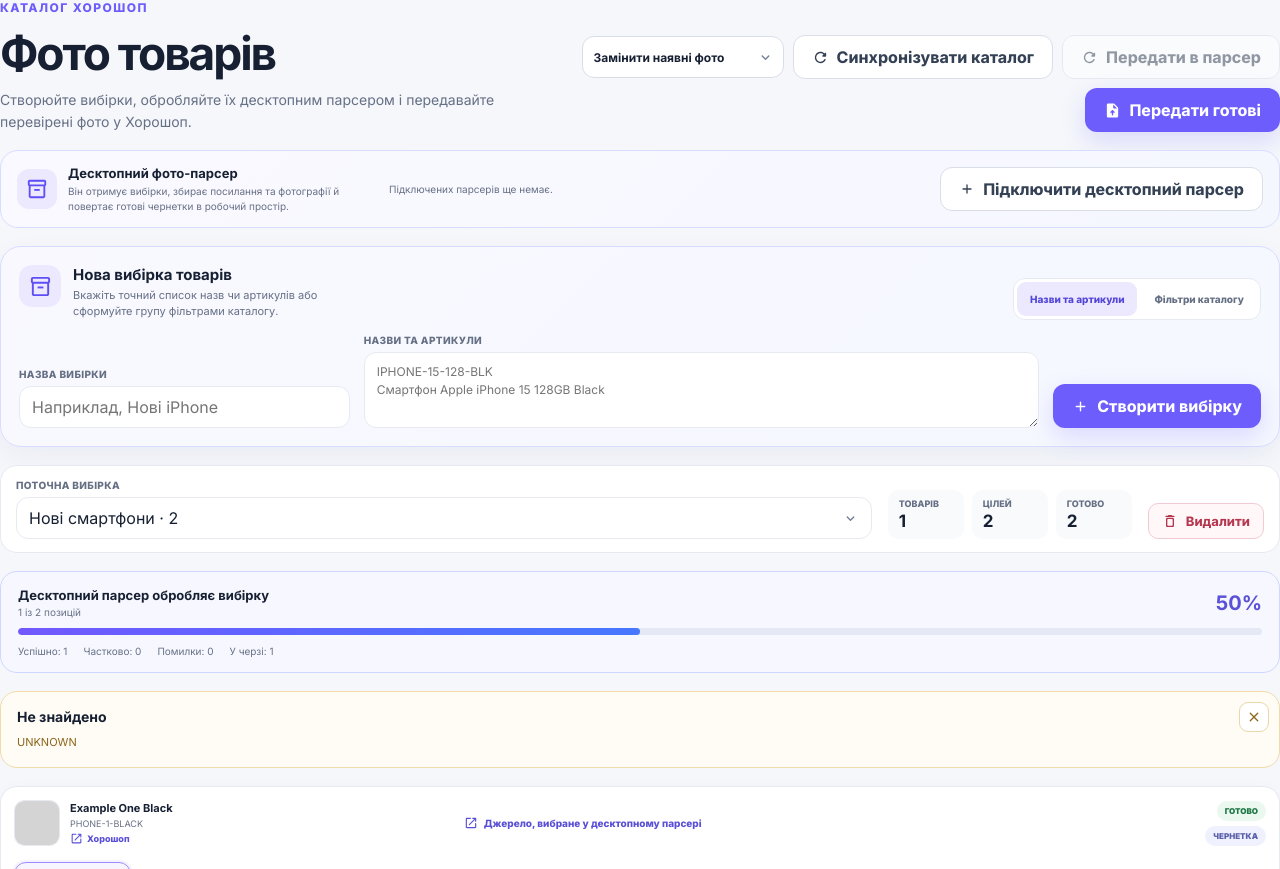
Test: HoroshopPhotoParserPage › allows publishing ready drafts even when a parser batch is stale at 50 percent
Expected: the text "1 із 2 позицій" is shown, [18,606,81,618]
Expected: the text "50%" is shown, [1216,591,1262,615]
Click the button "Передати готові": {"x": 1183, "y": 110} [1085,88,1279,132]
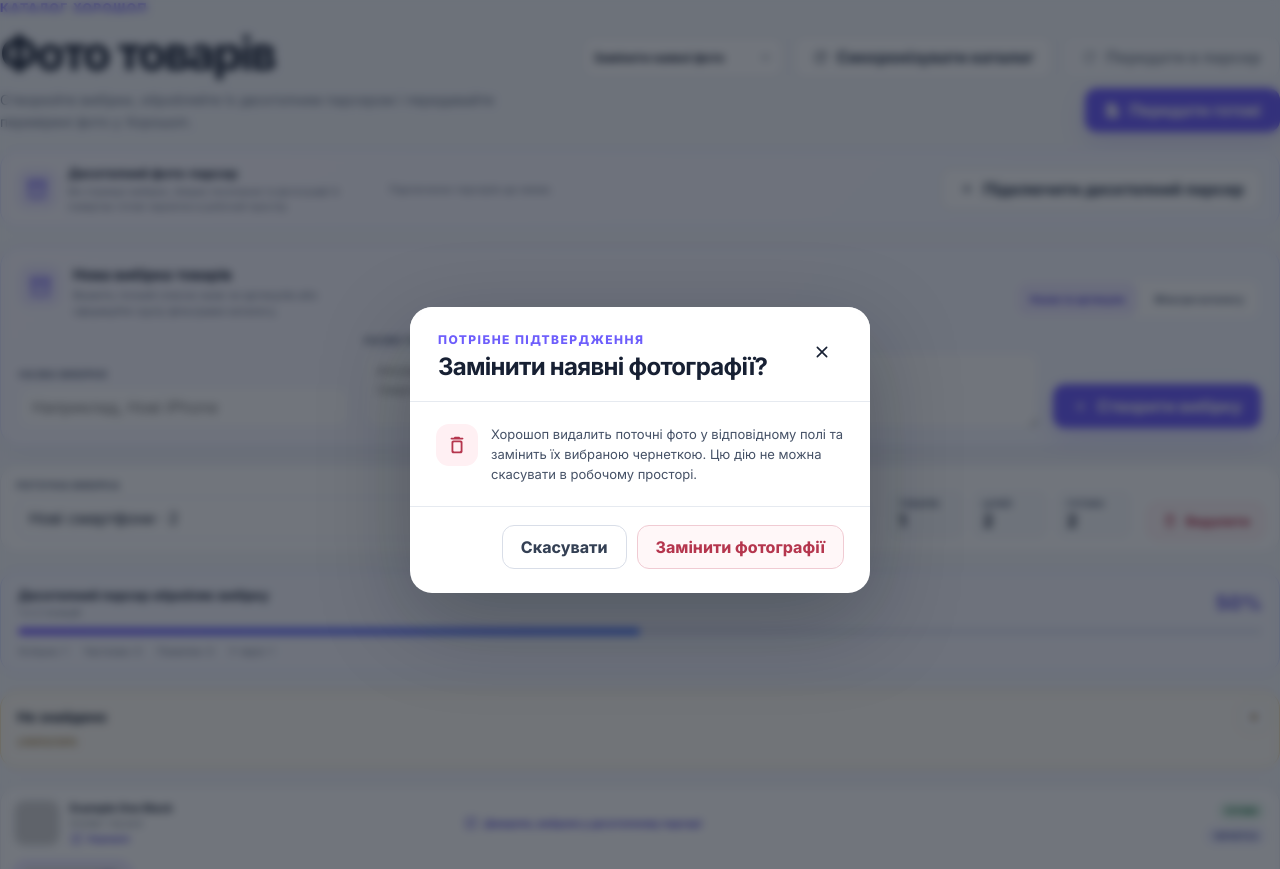
Click the button "Замінити фотографії": {"x": 740, "y": 547} [636,525,844,569]
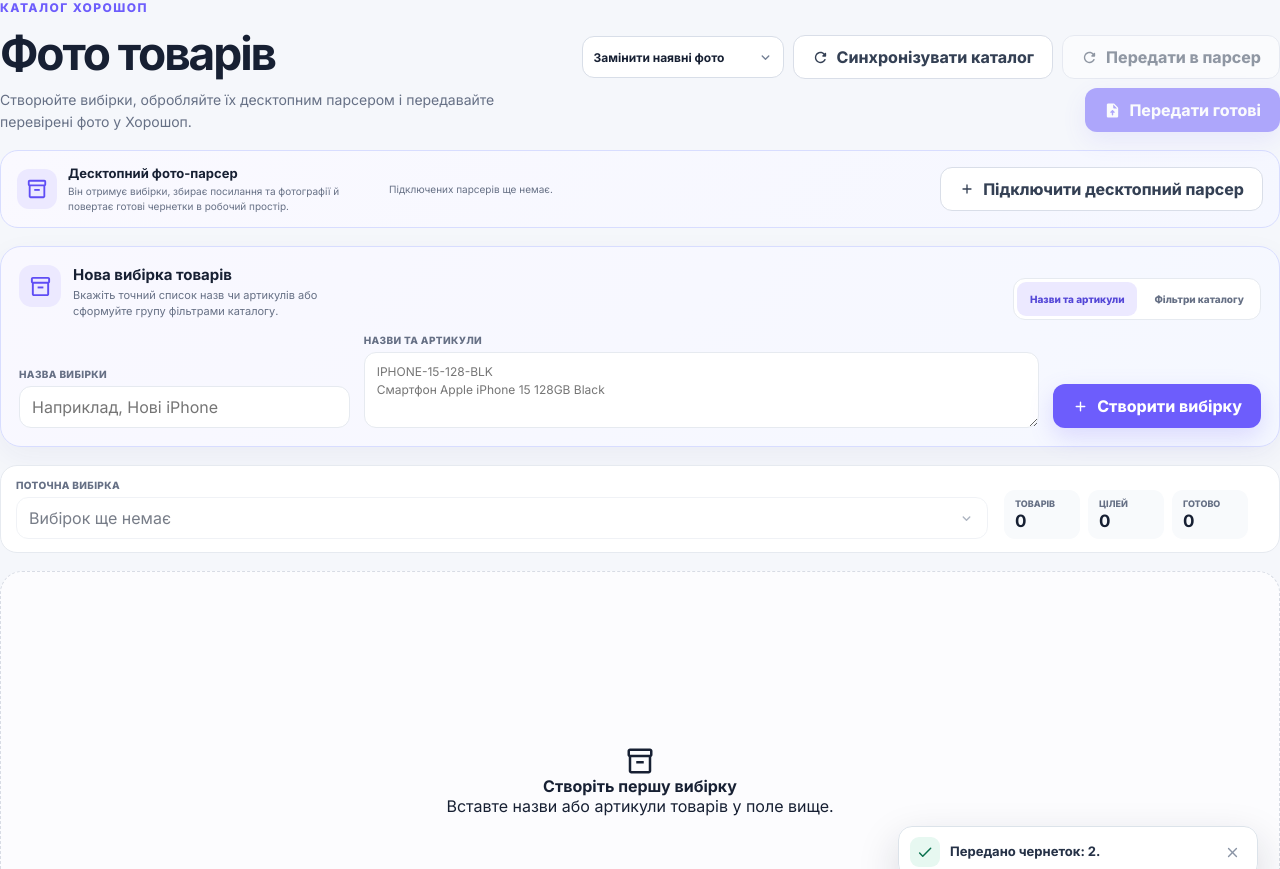
Expected: the button with aria-label "Поточна вибірка товарів" reads "Вибірок ще немає", [16,497,988,539]
